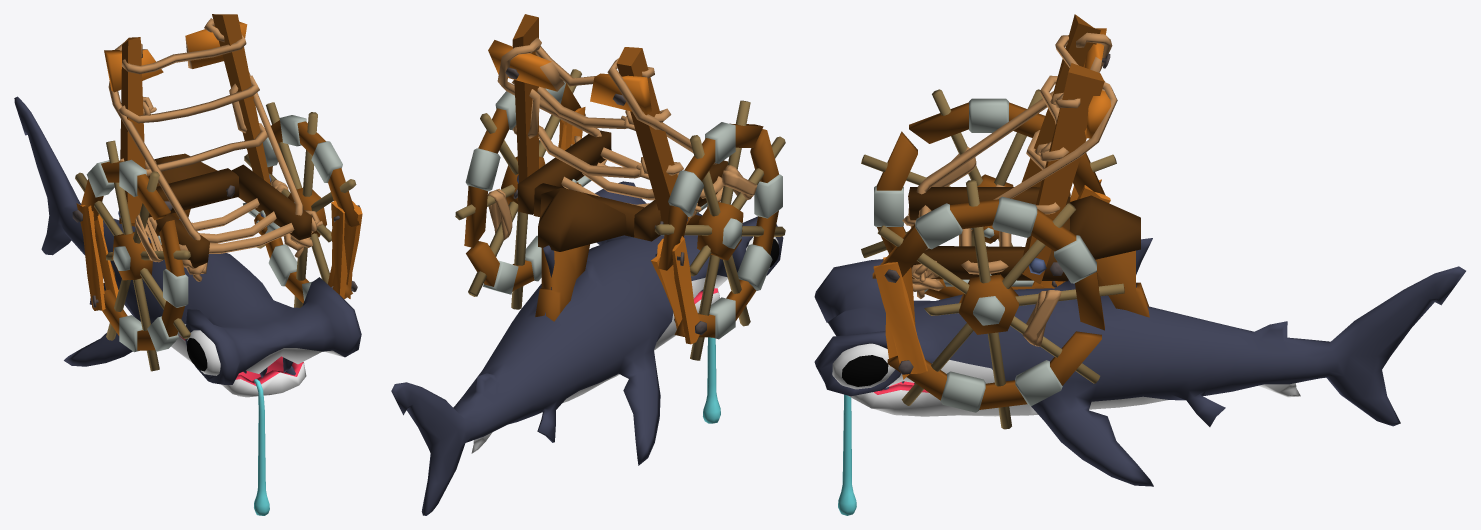
The model's file is SM_Shart.002.fbx.
The picture shows the model from 3 angles, left to right: view 1: azimuth 30°, elevation 25°; view 2: azimuth 150°, elevation 25°; view 3: azimuth 270°, elevation 25°; orthographic projection. The views are drawn at different scales.
Parts seen in each view (by area): view 1: SM_SHART; view 2: SM_SHART; view 3: SM_SHART.
Boxes of the visible parts, x1,y1,x2,y2 form: SM_SHART: (14, 14, 362, 515); SM_SHART: (391, 14, 785, 515); SM_SHART: (814, 14, 1465, 515).
Size of the model in its own units: 99.07 by 240 by 197.
